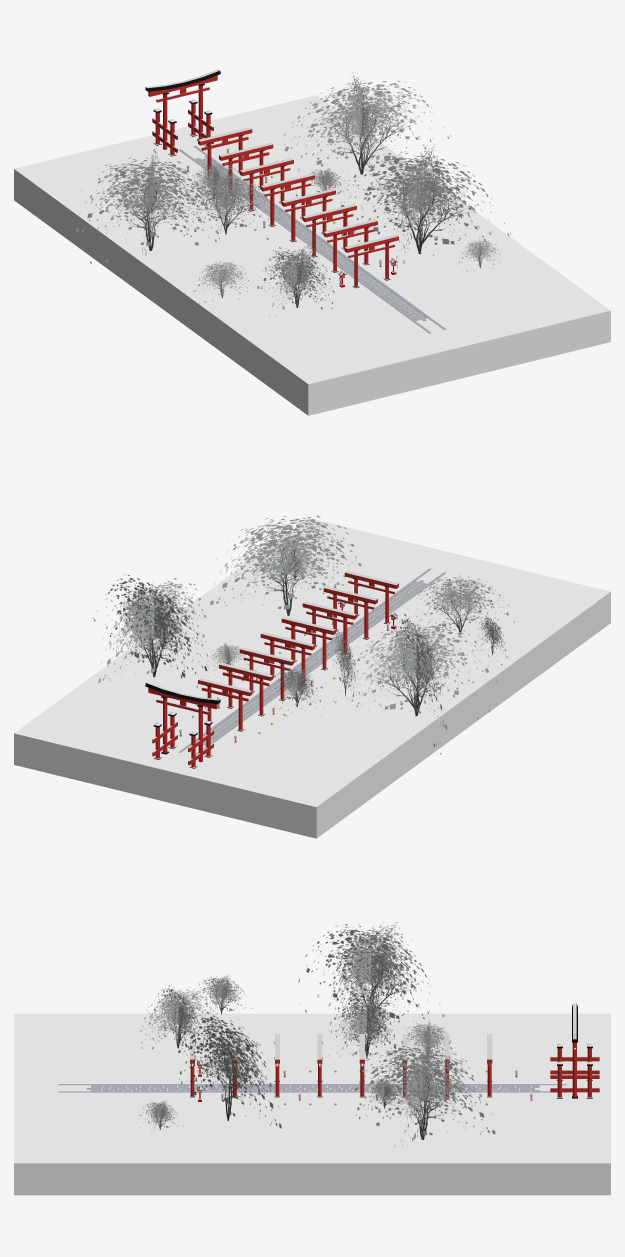
The model's file is 冬神社.glb.
The picture shows the model from 3 angles, top to bottom: view 1: azimuth 30°, elevation 25°; view 2: azimuth 150°, elevation 25°; view 3: azimuth 270°, elevation 25°; orthographic projection.
Visible parts, largest first — view 1: 円柱.003; view 2: 円柱.003; view 3: 円柱.003.
Boxes of the visible parts, left/top/right/bottom form: 円柱.003: left=14, top=69, right=610, bottom=415; 円柱.003: left=14, top=514, right=610, bottom=838; 円柱.003: left=14, top=922, right=610, bottom=1195.
Size of the model in its own units: 60.62 by 28.53 by 79.62.
12 materials, 2 textured.
